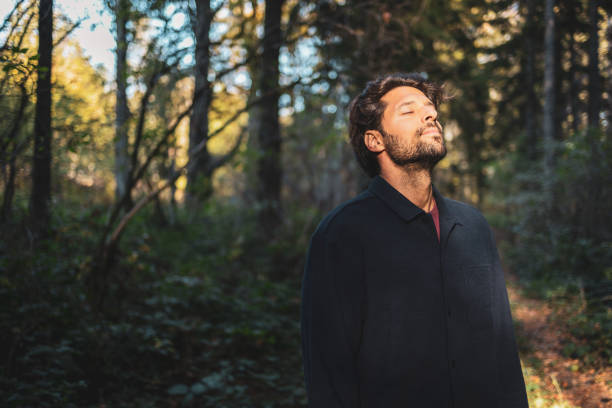Male: (307, 73, 535, 408)
